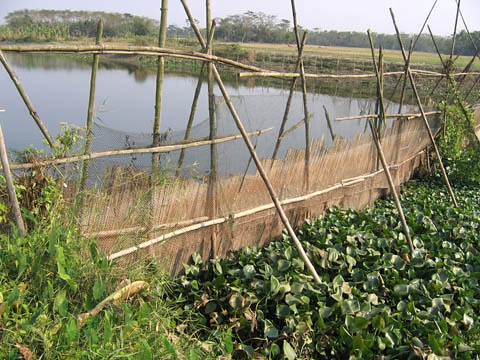river: (1, 55, 375, 175)
vegetation: (175, 194, 480, 360)
